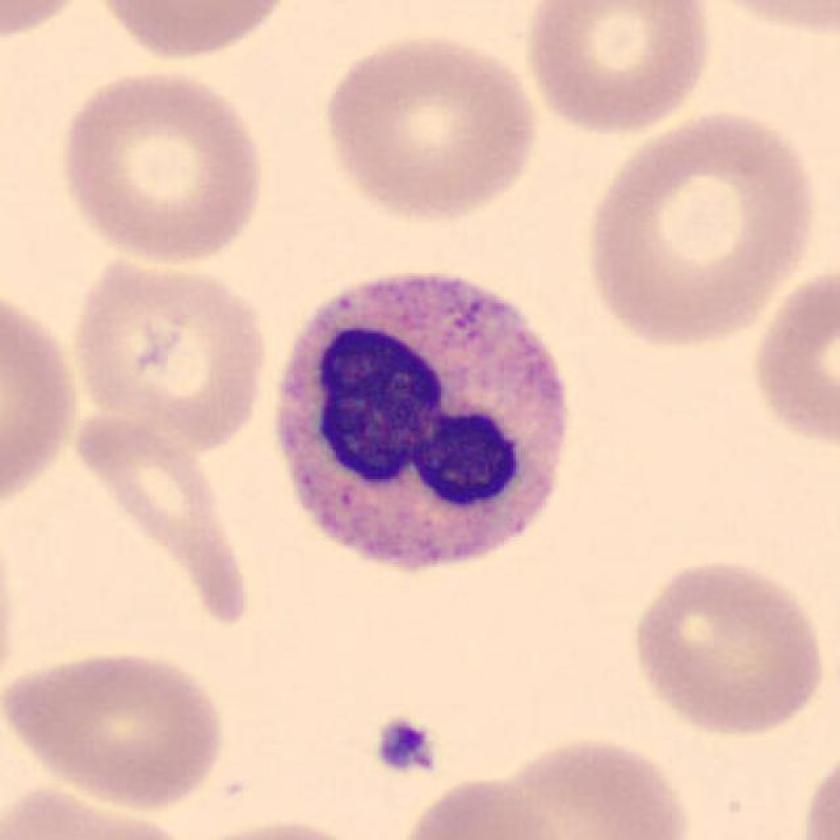neutrophil: (277, 274, 566, 571)
